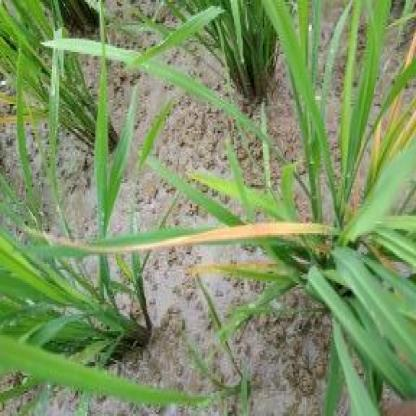Tungro: (95, 220, 336, 253)
